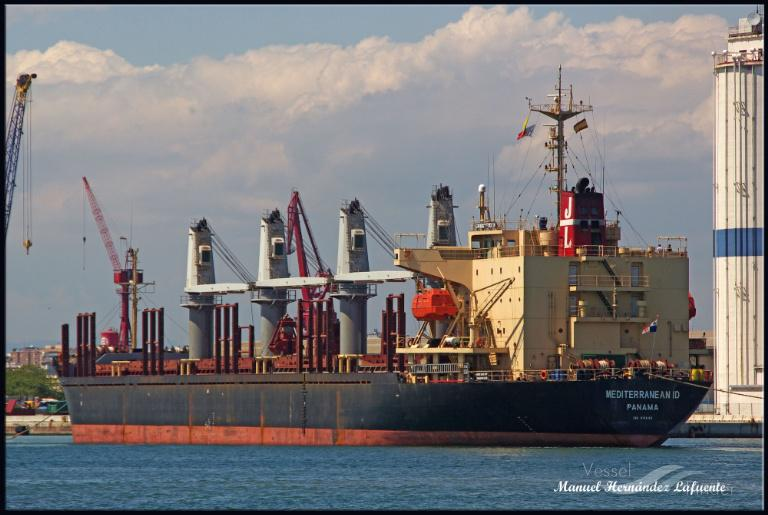OCR: (596, 382, 691, 428)
